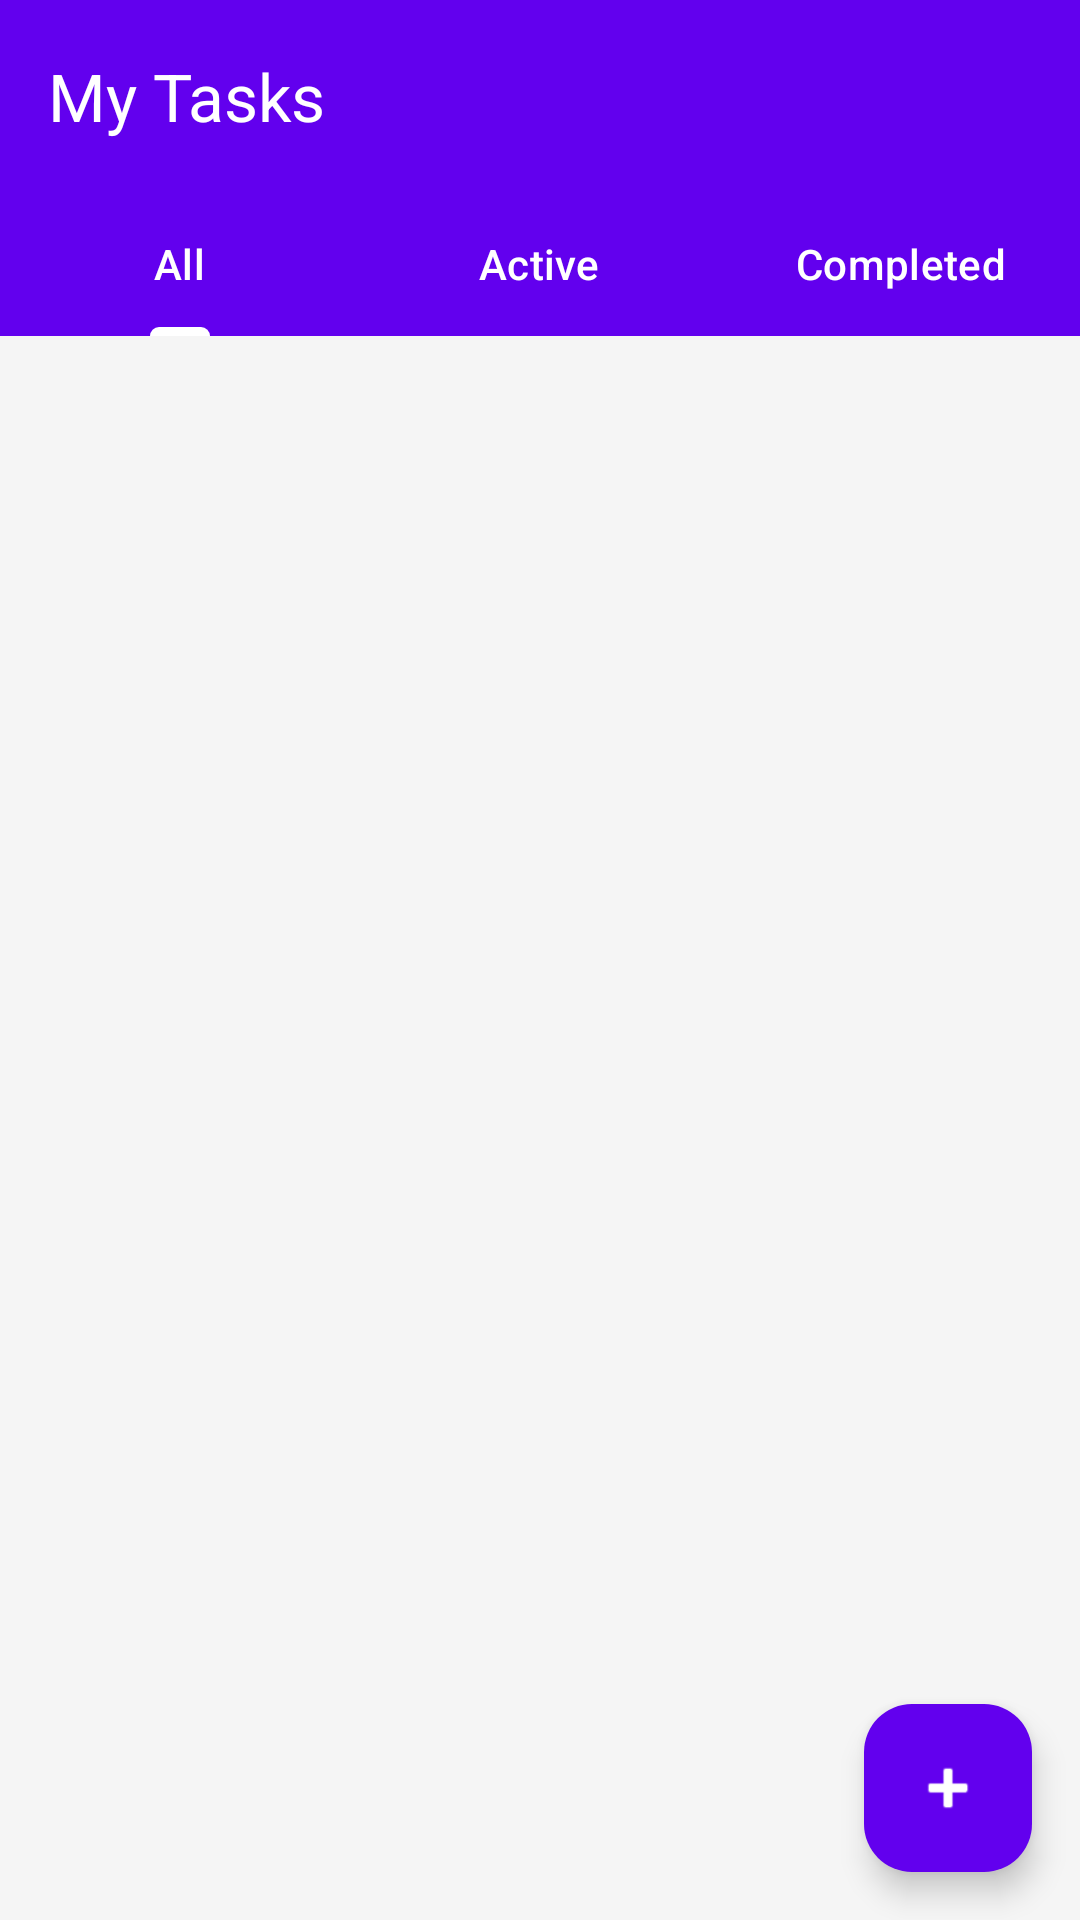

Locate icon controls on the screen. Image size 1080 × 1920, boxes as (x1,y1,x2,y2).
Add new task: (864,1704,1032,1872)
